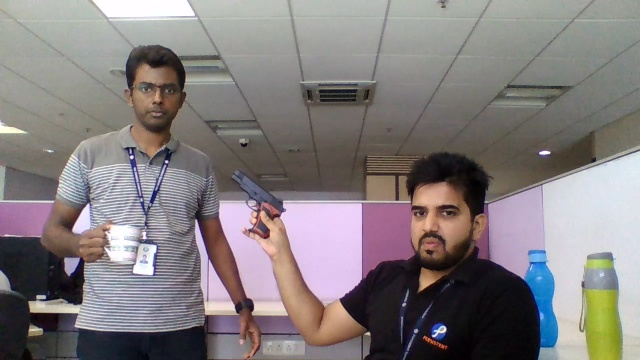gun: (230, 171, 285, 221)
